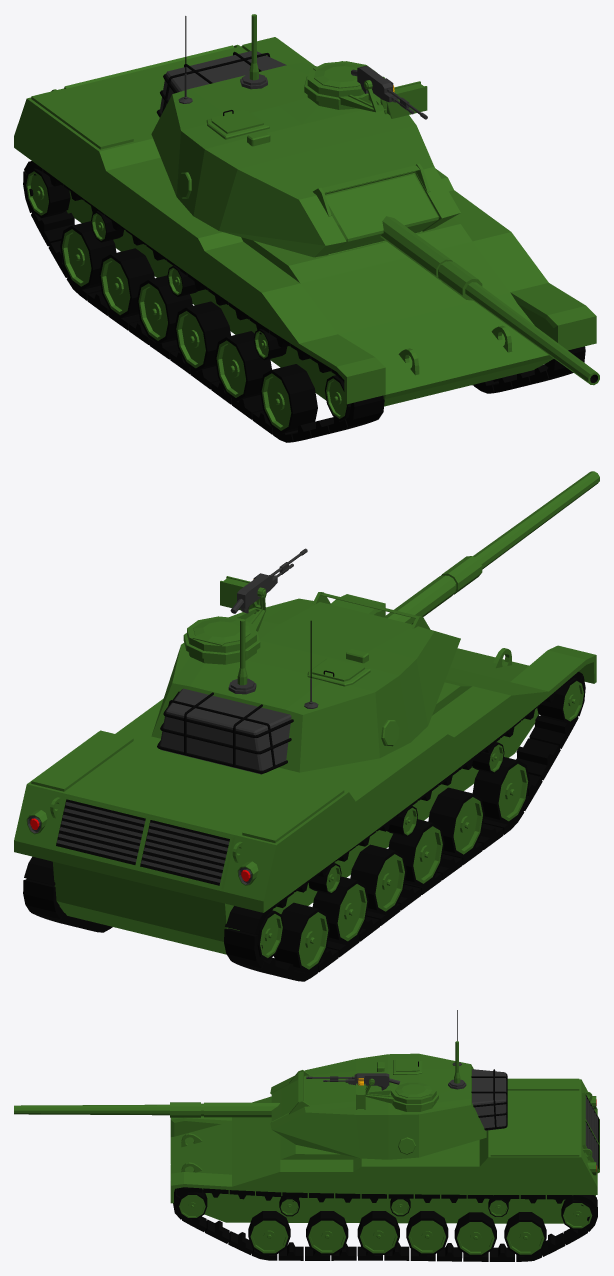
3 views of the same model, one above another, from view 1: azimuth 30°, elevation 25°; view 2: azimuth 150°, elevation 25°; view 3: azimuth 270°, elevation 25° (orthographic). The views are drawn at different scales.
Visible parts, largest first — view 1: Plane, Plane.001, Cylinder, Cube, Cube.002, Plane.002, Cube.001; view 2: Plane, Plane.001, Cylinder, Cube, Cube.002, Plane.002; view 3: Plane, Cylinder, Plane.001, Cube, Cube.002, Plane.002, Cube.001.
Boxes of the visible parts, x1,y1,x2,y2 form: Plane: (14,37,596,406); Plane.001: (151,14,460,257); Cylinder: (23,161,585,442); Cube: (325,173,599,385); Cube.002: (351,66,427,119); Plane.002: (313,61,362,88); Cube.001: (339,76,386,112); Plane: (14,594,596,954); Plane.001: (151,592,460,774); Cylinder: (23,671,585,981); Cube: (342,471,599,624); Cube.002: (220,548,307,613); Plane.002: (192,618,250,645); Plane: (170,1078,599,1223); Cylinder: (173,1187,597,1261); Plane.001: (270,1010,507,1159); Cube: (14,1077,304,1121); Cube.002: (306,1073,400,1109); Plane.002: (395,1082,432,1097); Cube.001: (365,1078,394,1103).
Bounding box in the file's own units: 302 × 353 × 956.
